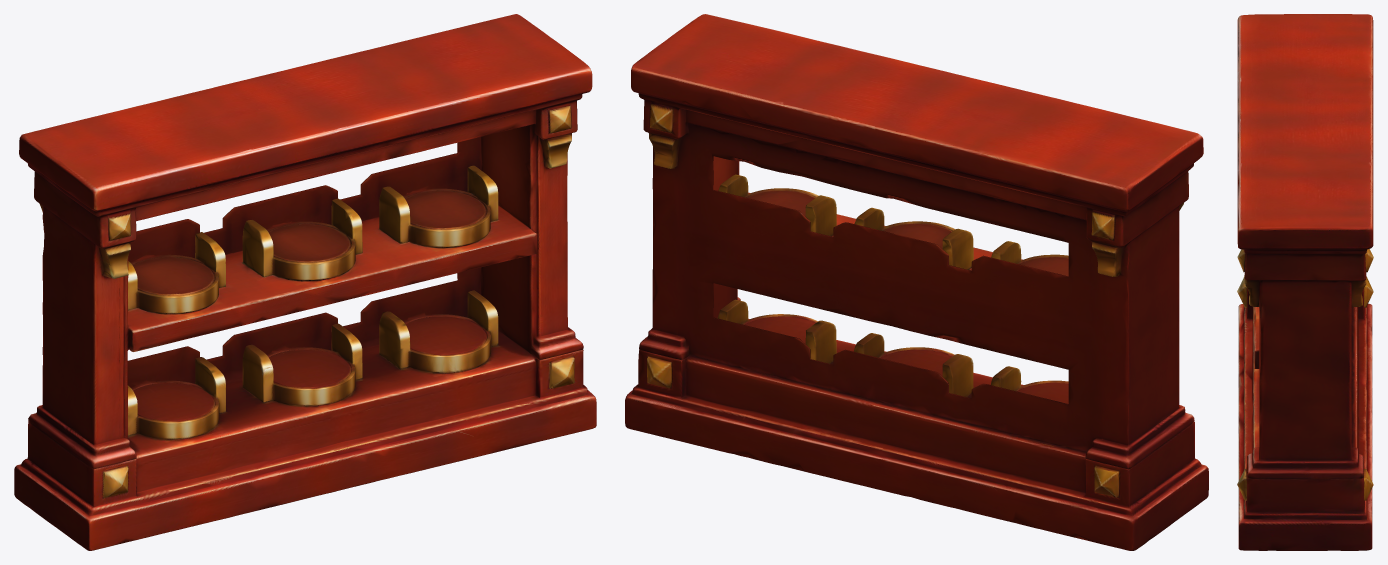
Rendered from cueball-rack.glb.
3 views of the same model, side by side, from view 1: azimuth 30°, elevation 25°; view 2: azimuth 150°, elevation 25°; view 3: azimuth 270°, elevation 25° (orthographic). The views are drawn at different scales.
Parts seen in each view (by area): view 1: tripo_node_39be704a-385a-479c-aae9-13600a5f2e59; view 2: tripo_node_39be704a-385a-479c-aae9-13600a5f2e59; view 3: tripo_node_39be704a-385a-479c-aae9-13600a5f2e59.
Part boxes in pixels (bbox=[...]): tripo_node_39be704a-385a-479c-aae9-13600a5f2e59: bbox=[14, 14, 596, 550]; tripo_node_39be704a-385a-479c-aae9-13600a5f2e59: bbox=[625, 14, 1208, 550]; tripo_node_39be704a-385a-479c-aae9-13600a5f2e59: bbox=[1237, 14, 1373, 550].
Bounding box in the file's own units: 0.9781 × 0.6666 × 0.257.
Materials: 1 (1 with a texture image).
